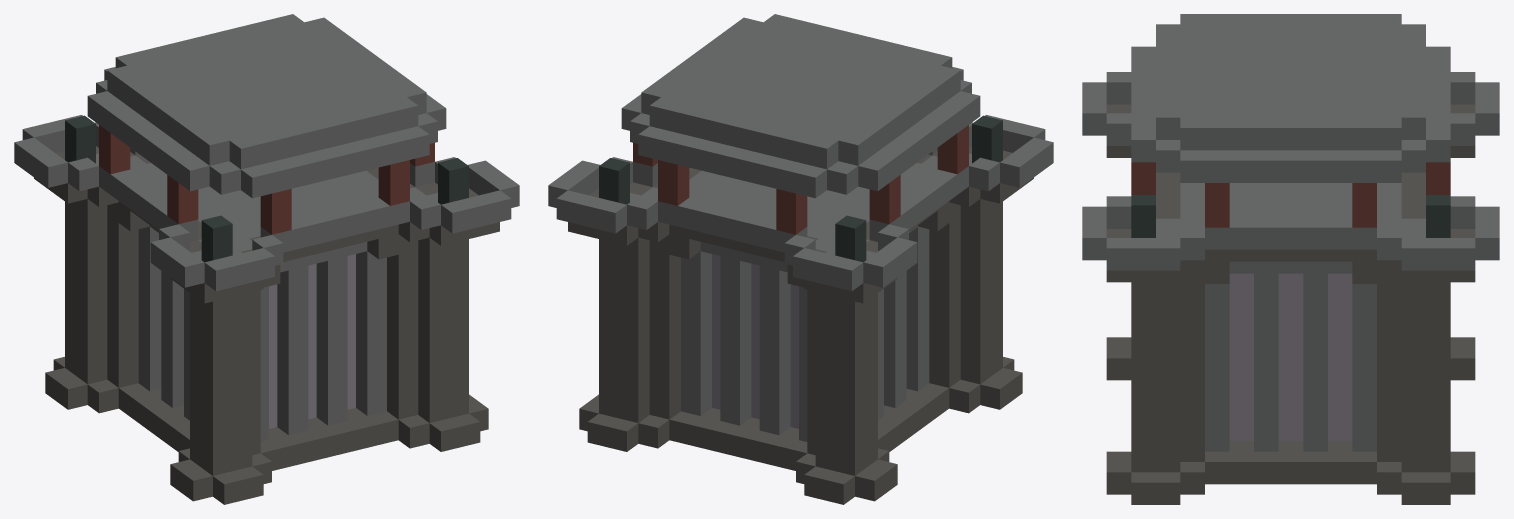
Rendered from ArcherTurret.gltf.
3 renders of one model, left to right at view 1: azimuth 30°, elevation 25°; view 2: azimuth 150°, elevation 25°; view 3: azimuth 270°, elevation 25°, orthographic. The views are drawn at different scales.
Visible parts, largest first — view 1: Layer.1; view 2: Layer.1; view 3: Layer.1.
Part boxes in pixels (left/top/right/bottom): Layer.1: left=14, top=14, right=519, bottom=504; Layer.1: left=548, top=14, right=1053, bottom=504; Layer.1: left=1082, top=14, right=1499, bottom=504.
Bounding box in the file's own units: 17 × 16 × 17.
Materials: 1 (1 with a texture image).
